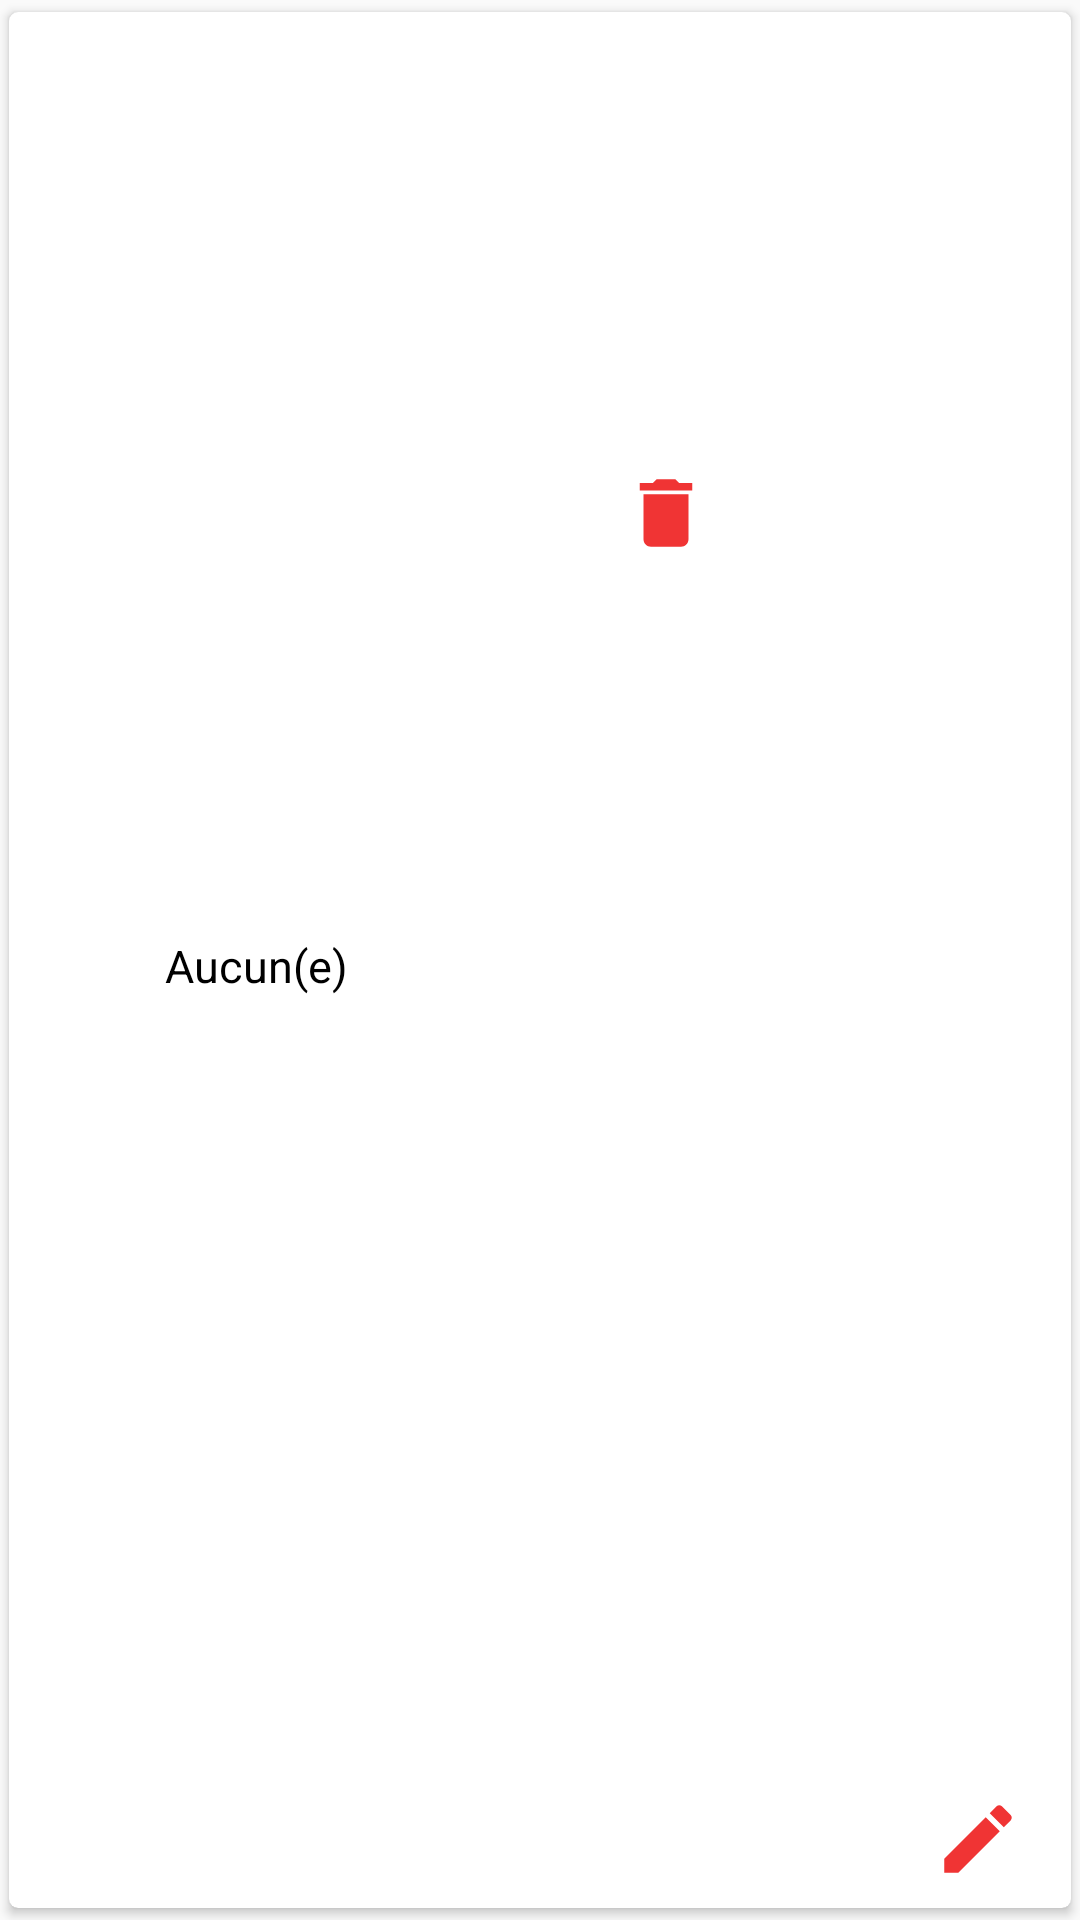

Icon bounding boxes for this 1080px x 1920px phone screenshot, format (x1,y1,x2,y2):
delete saumon: (639,479,693,547)
mode edit: (944,1805,1012,1873)
